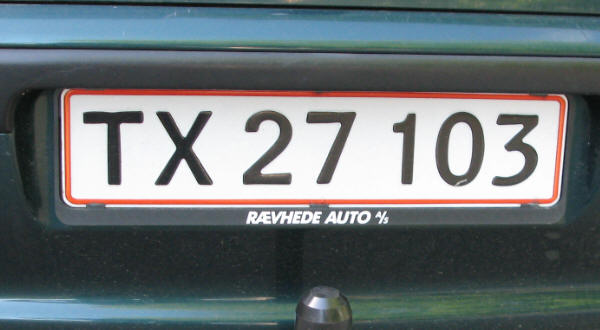license_plate: (60, 87, 569, 207)
